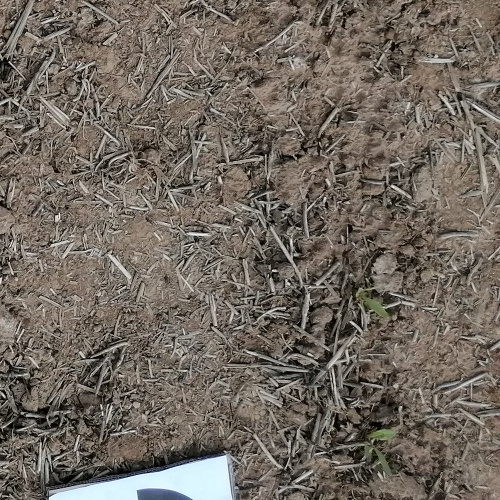beet: (364, 429, 394, 478), (364, 291, 388, 320)
